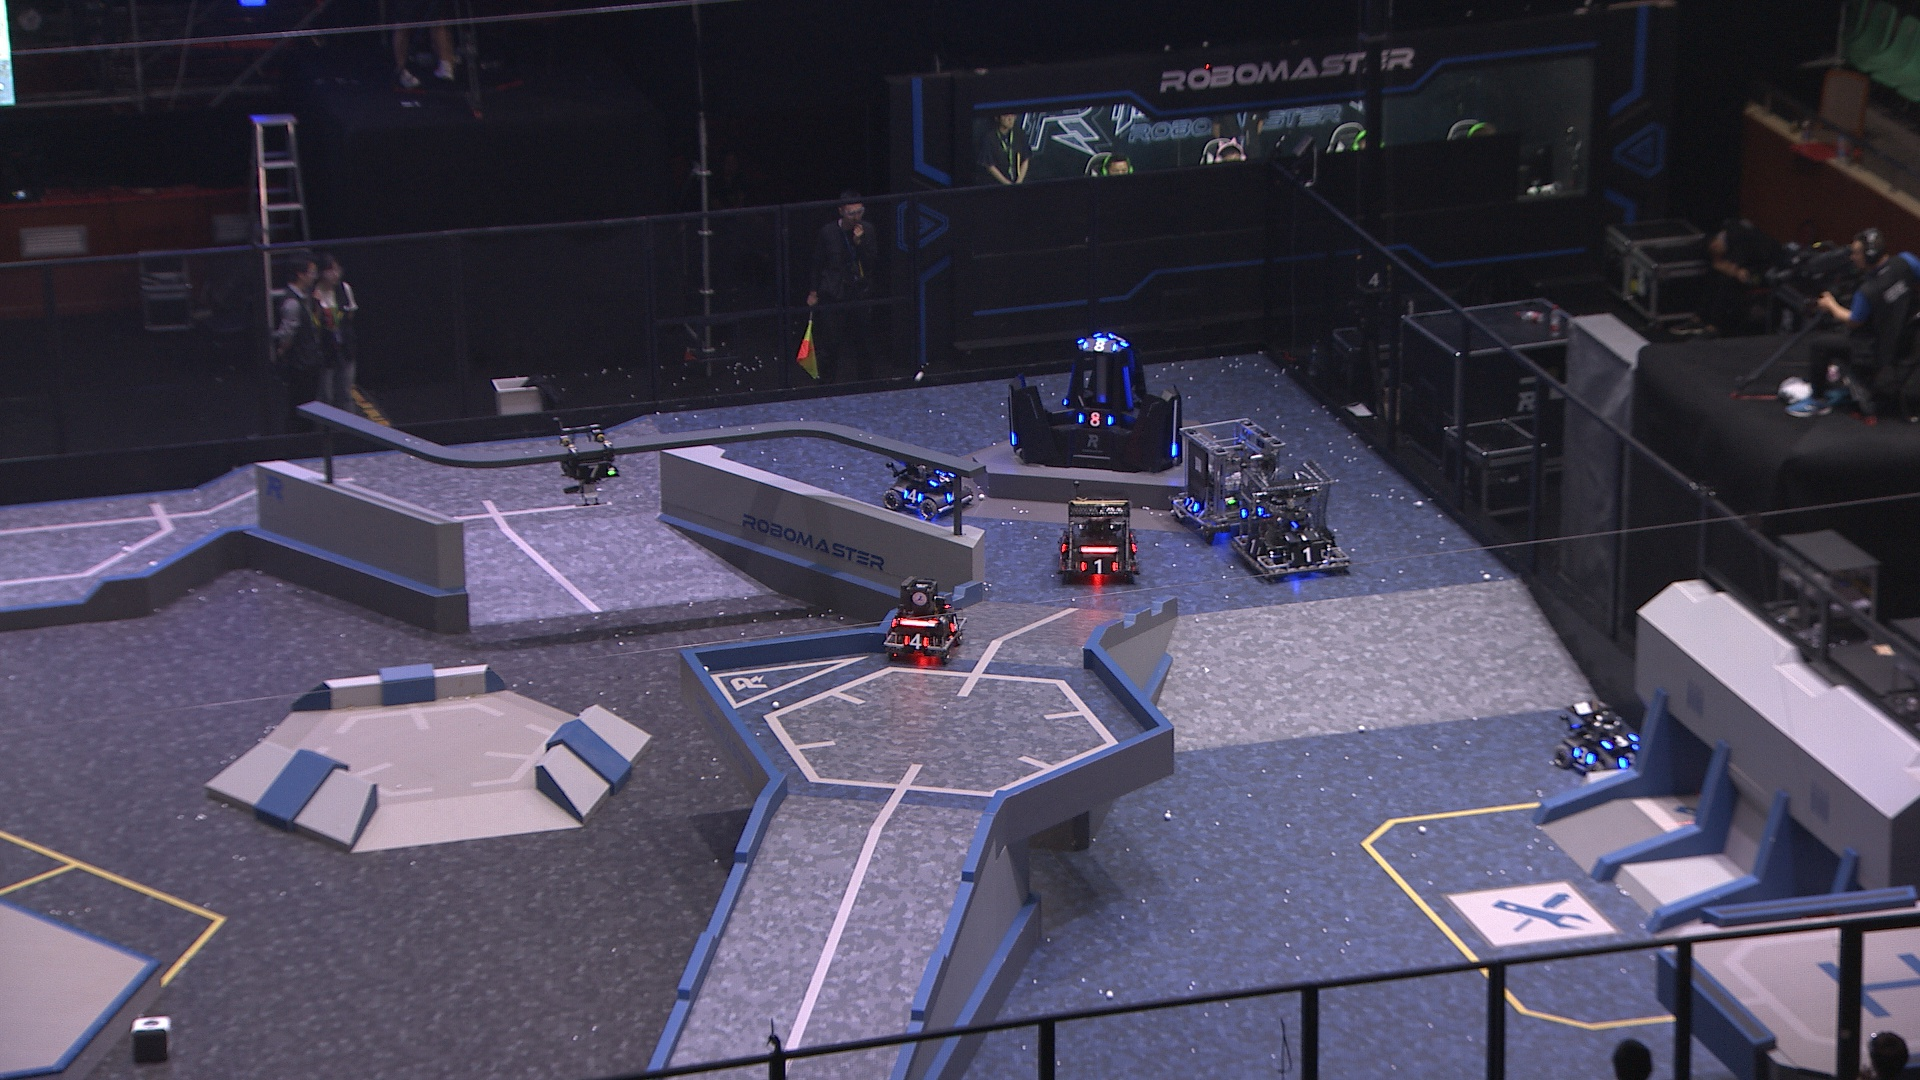armor: (1077, 556, 1120, 579), (575, 462, 618, 483), (1069, 409, 1116, 429), (1286, 546, 1328, 566), (899, 628, 932, 651), (926, 465, 959, 489), (1567, 744, 1598, 767), (1280, 526, 1320, 545), (1600, 732, 1636, 752), (1121, 363, 1135, 411), (1083, 338, 1122, 353), (1615, 752, 1644, 773), (1240, 534, 1265, 556), (1240, 500, 1266, 520), (944, 611, 964, 636), (903, 487, 926, 506), (1182, 495, 1201, 516), (1055, 531, 1072, 553), (1007, 433, 1021, 448), (1168, 443, 1179, 458)
base: (1002, 324, 1185, 472)
car: (1232, 456, 1356, 584), (1168, 417, 1288, 545), (1551, 698, 1655, 785), (1054, 491, 1141, 585), (882, 578, 969, 669), (880, 443, 975, 524)
watcher: (556, 423, 622, 508)
